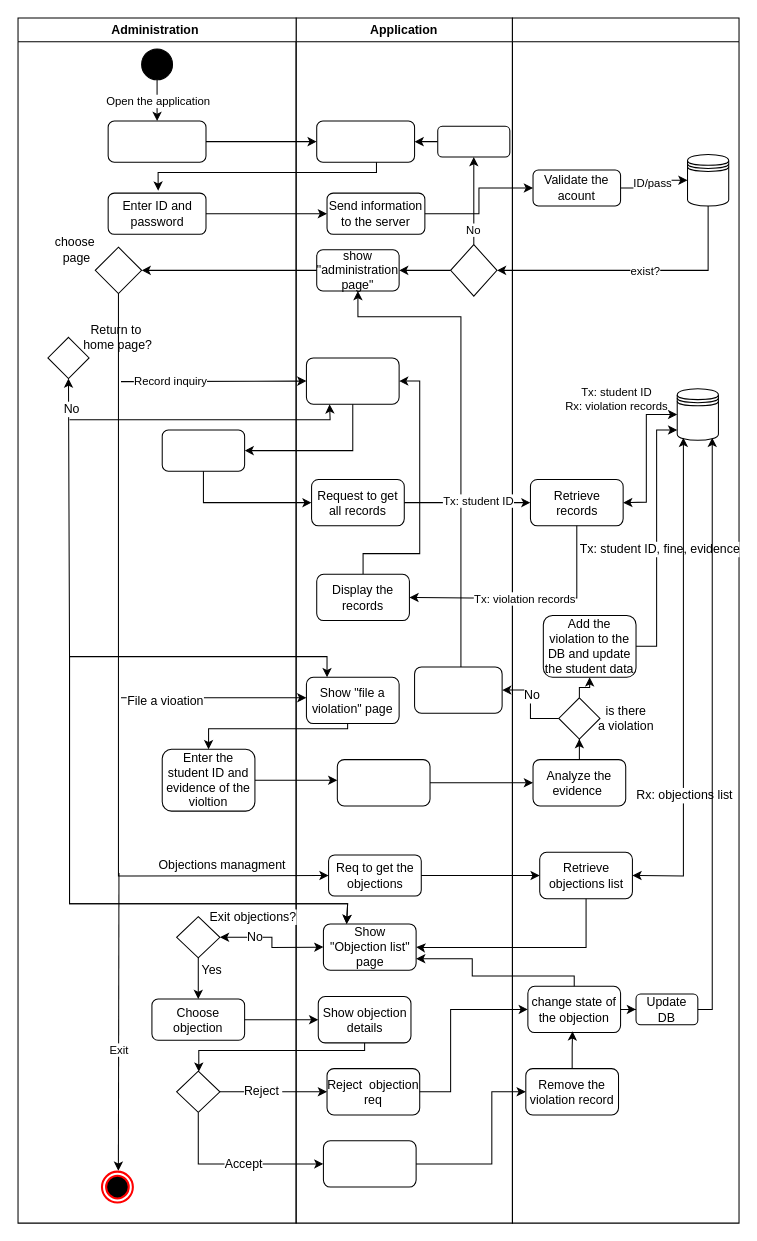
Some shapes in this 757 by 1241 pixel diagram are drawn without their labels. Each missing label, with the box of its shape:
Accept objection req: (322, 1140, 416, 1187)
Accounts DB: (686, 153, 729, 206)
Administration login: (107, 120, 206, 162)
BackEnd server: (511, 17, 739, 1223)
Display error message: (414, 666, 502, 713)
Enter student ID: (161, 429, 245, 471)
Request to add violation: (336, 759, 430, 806)
Show "record inquiry" page: (305, 357, 399, 404)
show error message: (437, 125, 510, 157)
show log in page: (316, 120, 415, 162)
System DB: (676, 388, 718, 440)
